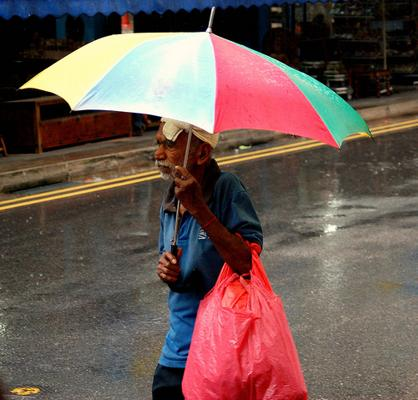person: (152, 117, 265, 400)
